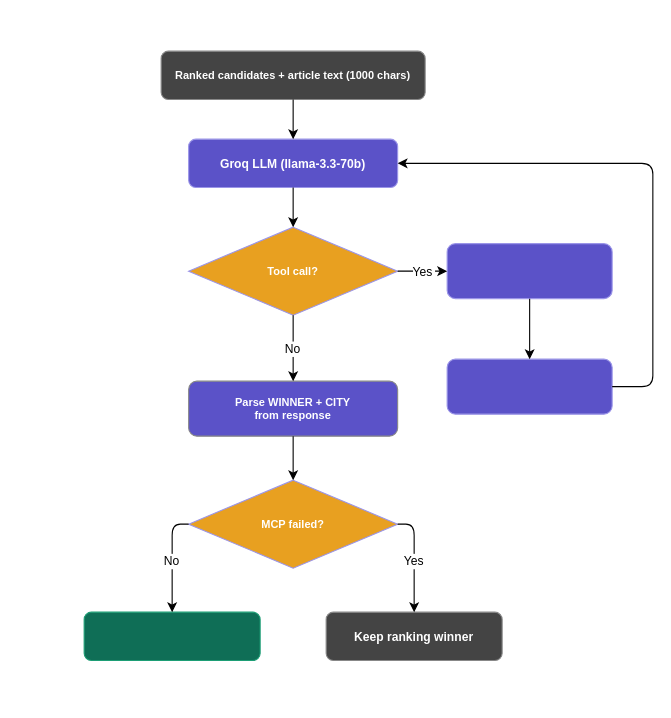
Some shapes in this 671 by 718 pixel diagram are drawn without their labels. Here are the shapes that lost their labels. From the top down, the centre of each, then its label:
the point at 529,271: get_article_topic() get_location_context()
the point at 529,386: Tool result added to messages
the point at 171,636: Override ranking winner
